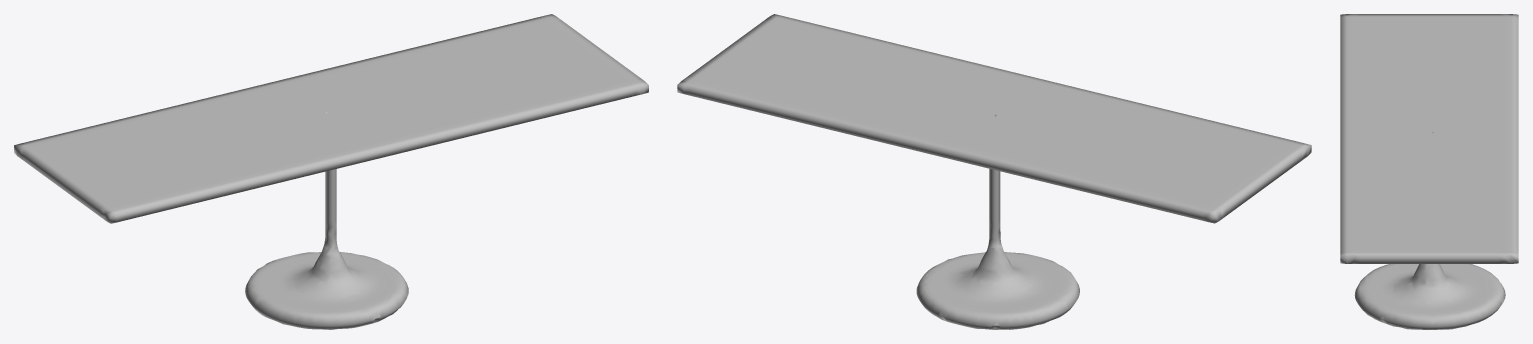
The model's file is long-table.glb.
The picture shows the model from 3 angles, left to right: view 1: azimuth 30°, elevation 25°; view 2: azimuth 150°, elevation 25°; view 3: azimuth 270°, elevation 25°; orthographic projection. The views are drawn at different scales.
Parts seen in each view (by area): view 1: model_0; view 2: model_0; view 3: model_0.
Boxes of the visible parts, x1,y1,x2,y2 form: model_0: [14, 14, 648, 329]; model_0: [677, 14, 1311, 329]; model_0: [1340, 14, 1518, 329].
Bounding box in the file's own units: 949 × 321 × 296.
Materials: 1 (1 with a texture image).
